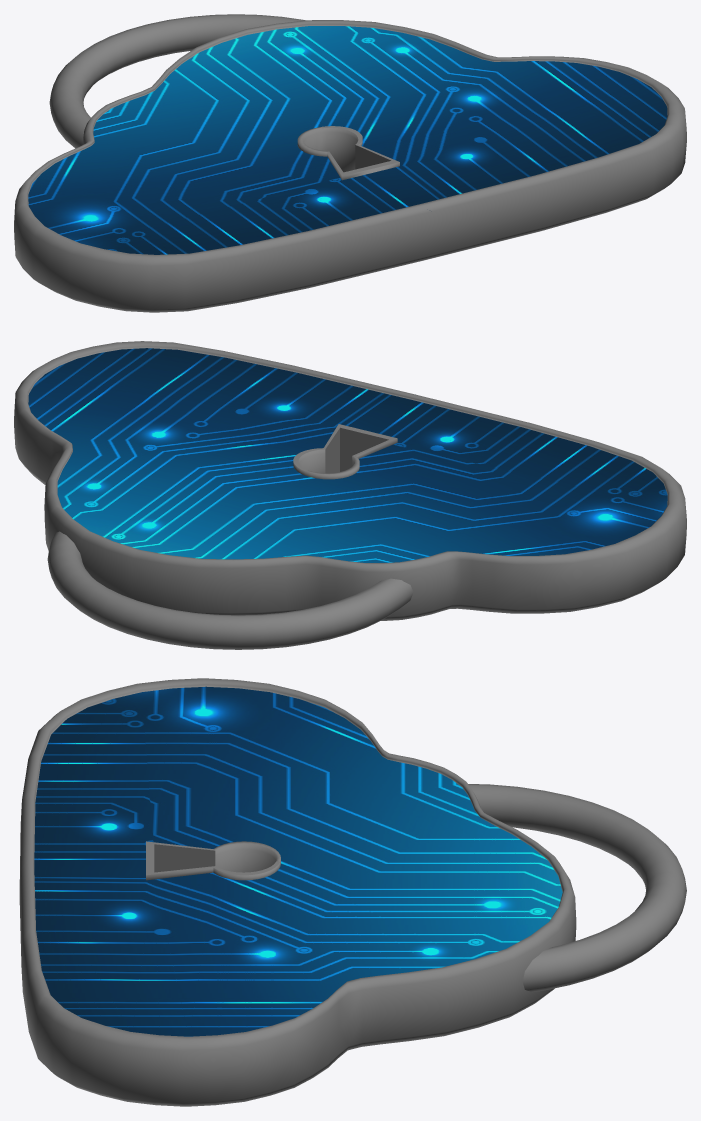
File: escena2.gltf
3 renders of one model, top to bottom at view 1: azimuth 30°, elevation 25°; view 2: azimuth 150°, elevation 25°; view 3: azimuth 270°, elevation 25°, orthographic. The views are drawn at different scales.
Parts seen in each view (by area): view 1: Cylinder.000, Torus.005; view 2: Cylinder.000, Torus.005; view 3: Cylinder.000, Torus.005.
Part boxes in pixels (left/top/right/bottom): Cylinder.000: left=14, top=20, right=686, bottom=312; Torus.005: left=49, top=14, right=305, bottom=148; Cylinder.000: left=14, top=341, right=686, bottom=620; Torus.005: left=47, top=531, right=413, bottom=649; Cylinder.000: left=19, top=678, right=576, bottom=1106; Torus.005: left=468, top=784, right=686, bottom=992.
Bounding box in the file's own units: 7.86 × 0.6819 × 6.02.
Materials: 2 (2 with a texture image).
